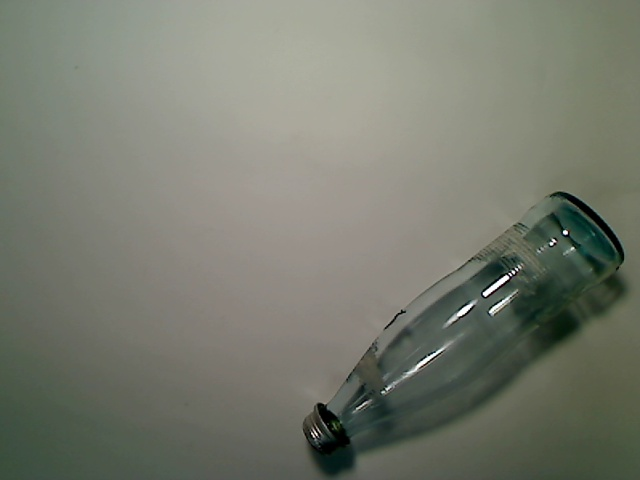bottle: (302, 190, 627, 455)
